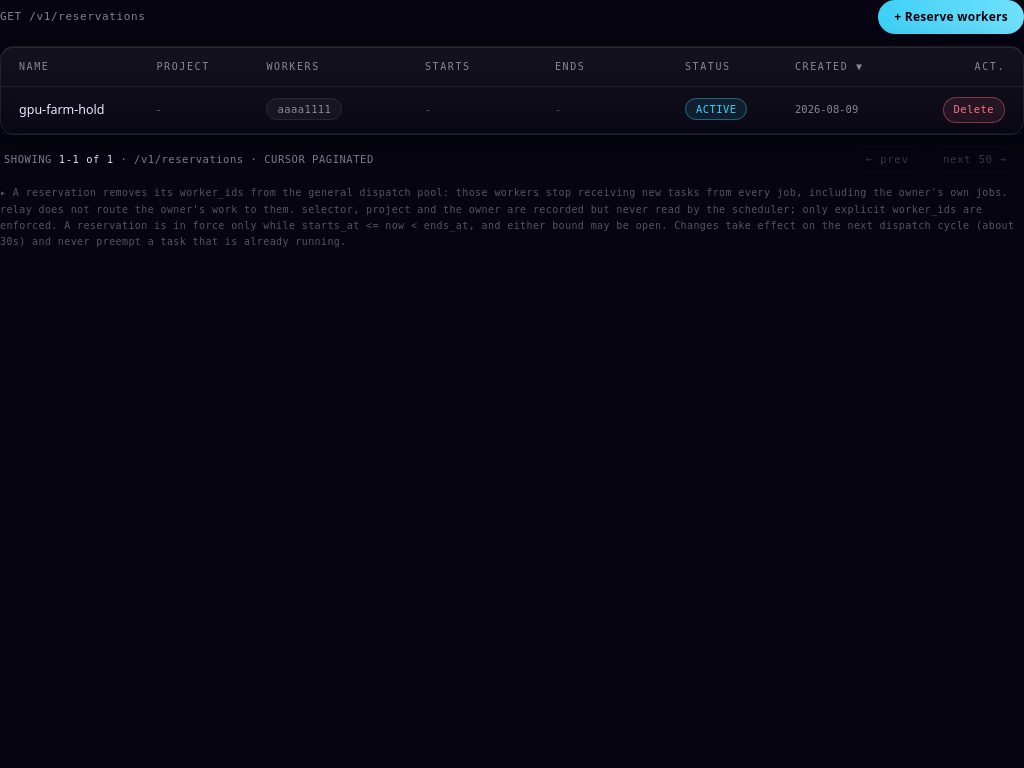
Delete is gated: Cancel sends NO request, Confirm sends exactly one
The image size is (1024, 768).
Expected: the text "gpu-farm-hold" is shown, [19,100,104,119]
Click the button with aria-label "Delete reservation gpu-farm-hold".
click(974, 110)  # box [942,97,1005,123]
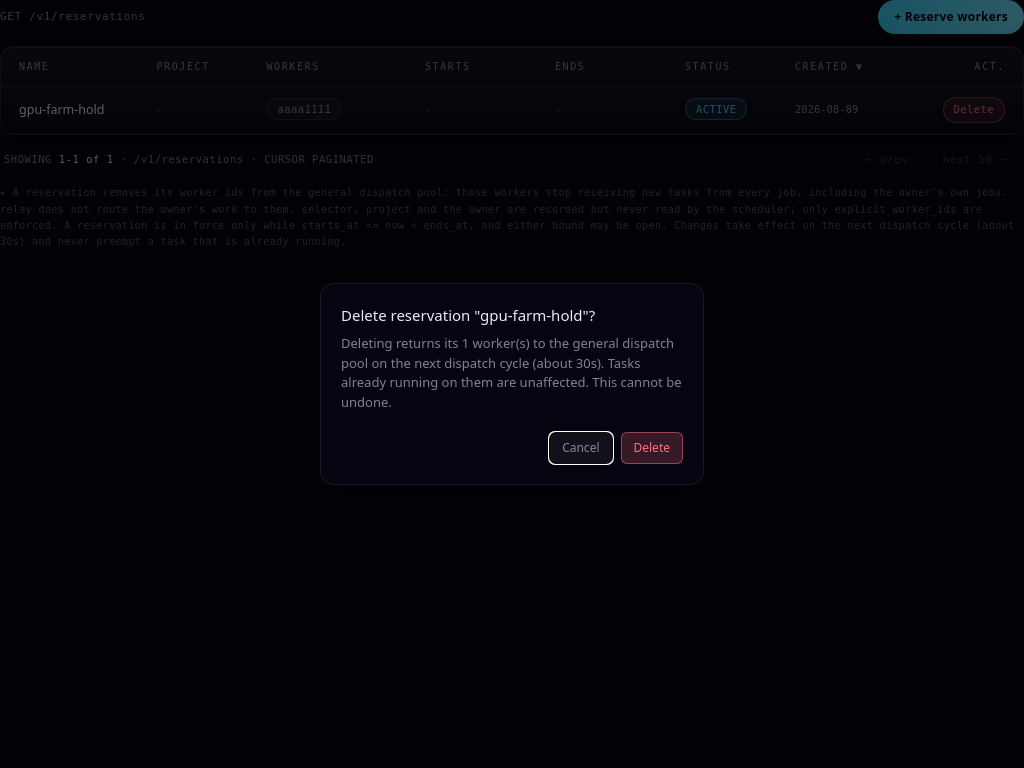
Expected: the dialog shows "returns its 1 worker", [341,334,682,411]
Expected: the dialog shows "general dispatch pool", [341,334,682,411]
Expected: the dialog shows "next dispatch cycle", [341,334,682,411]
Click the button "Cancel".
click(581, 448)  # box [549,432,612,464]
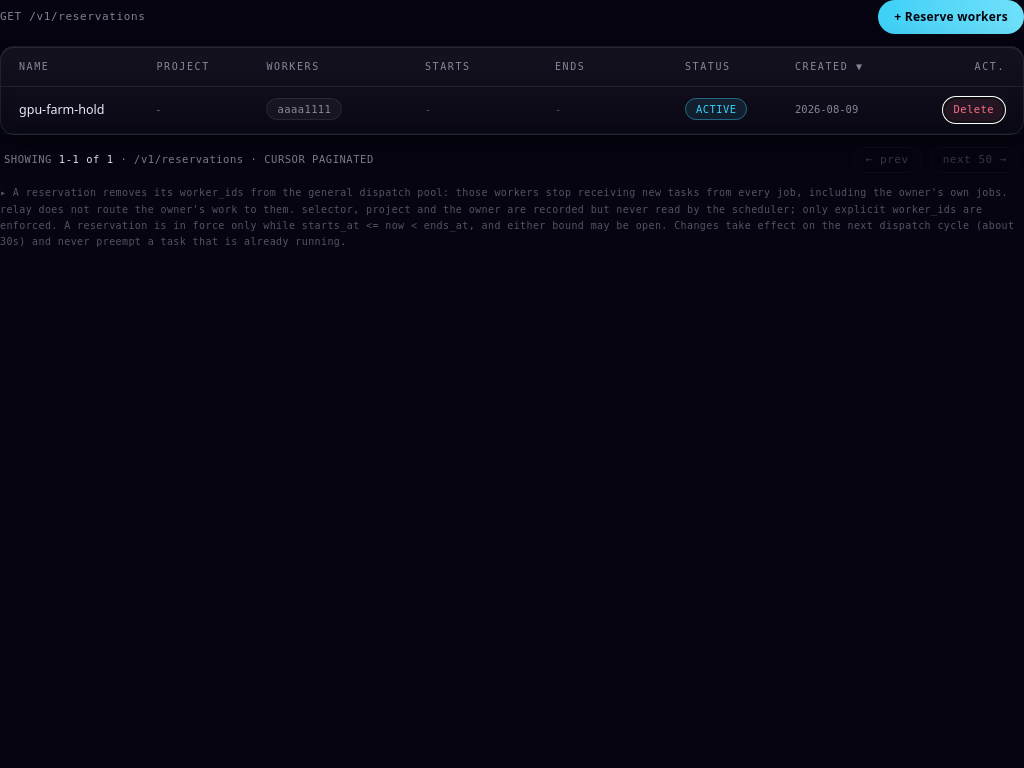
Expected: the dialog is gone
Click the button with aria-label "Delete reservation gpu-farm-hold".
click(974, 110)  # box [942,97,1005,123]
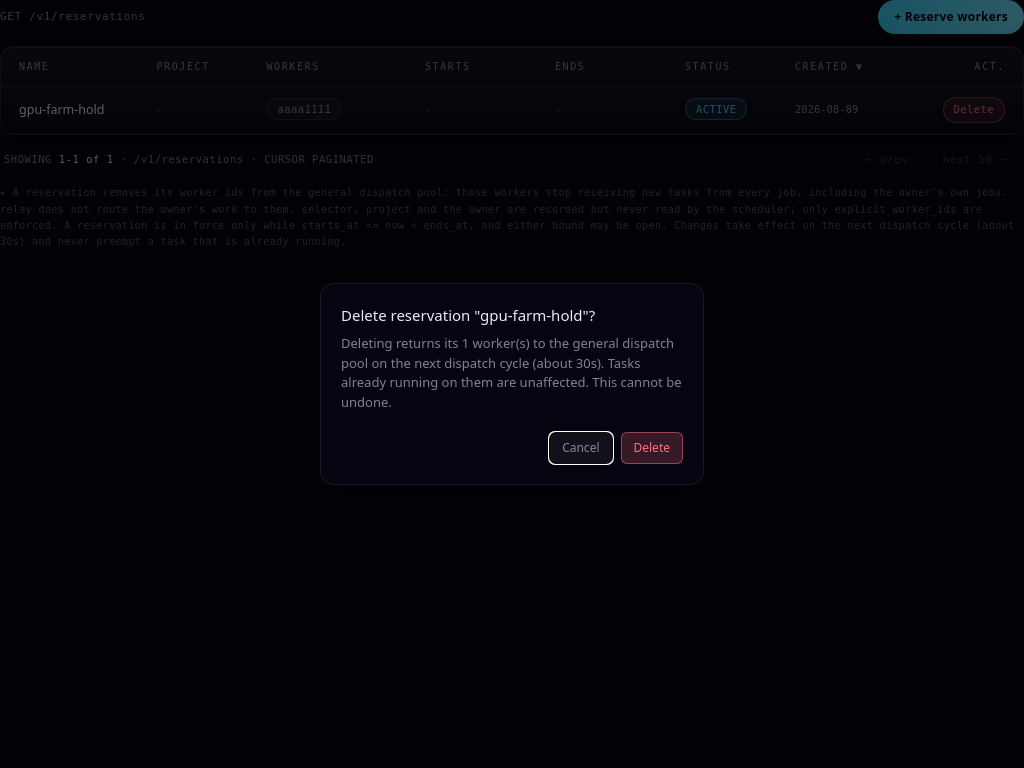
Click the button "Delete".
click(652, 448)  # box [620,432,683,464]
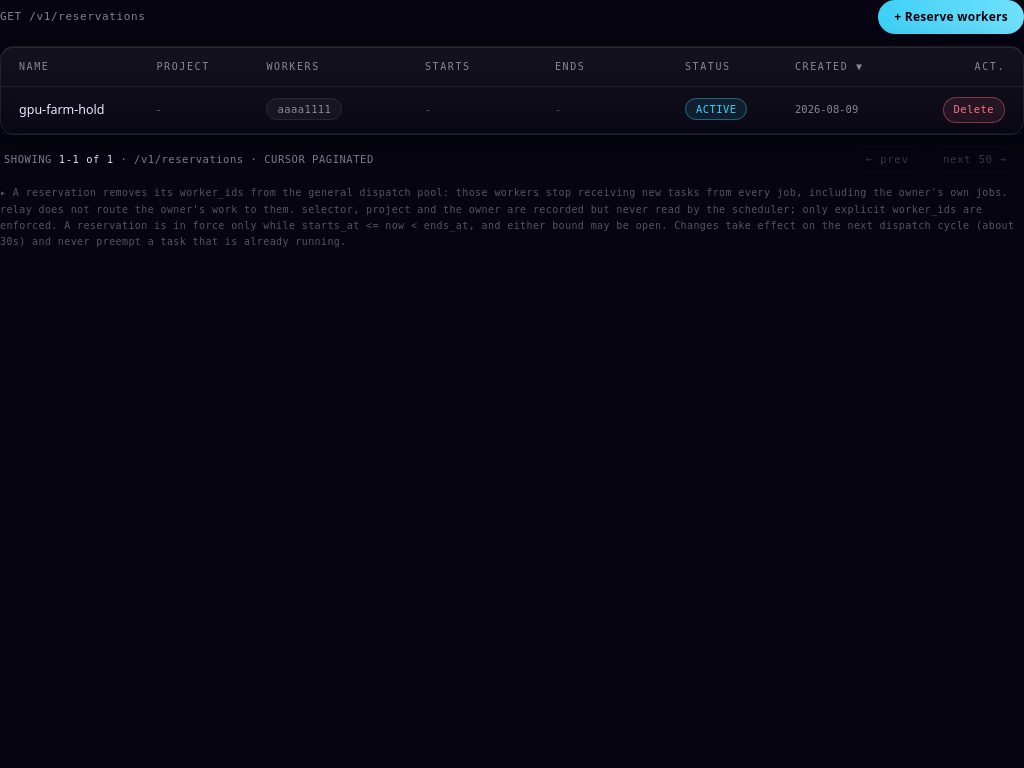
Expected: the dialog is gone
